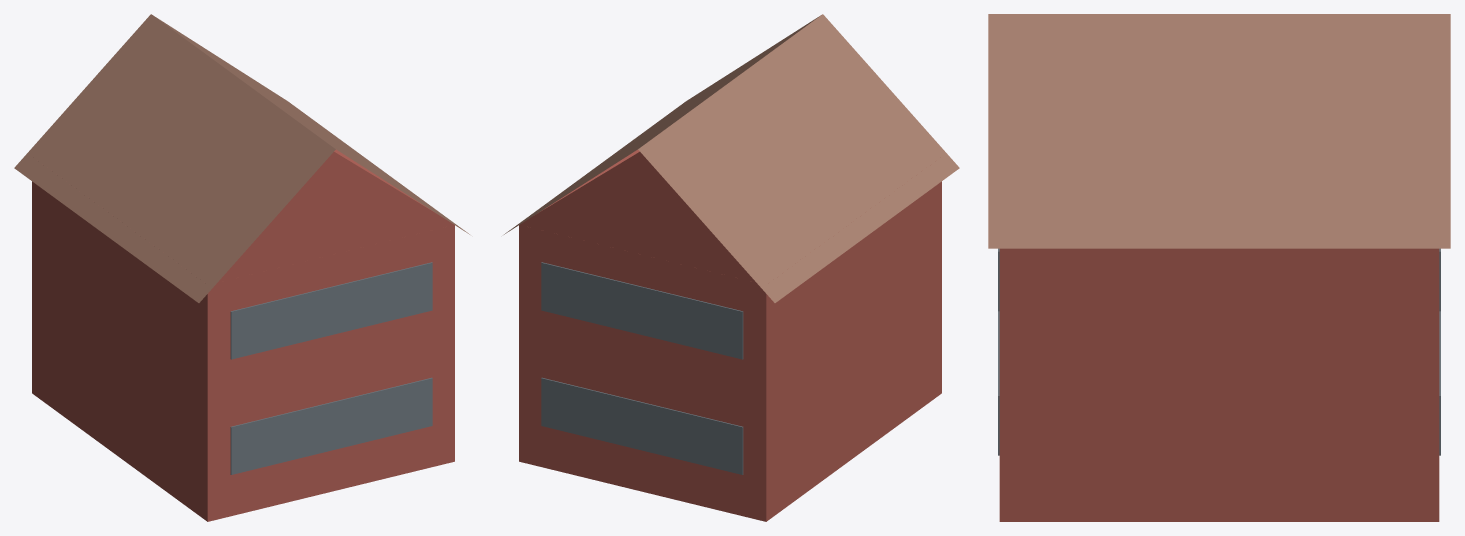
File: cove-house-red.coast-v2.lod2.glb
3 views of the same model, side by side, from view 1: azimuth 30°, elevation 25°; view 2: azimuth 150°, elevation 25°; view 3: azimuth 270°, elevation 25° (orthographic). The views are drawn at different scales.
Parts seen in each view (by area): view 1: cove-house-red; view 2: cove-house-red; view 3: cove-house-red.
Boxes of the visible parts, box(x1,y1,x2,y2) form: cove-house-red: box(14, 14, 469, 521); cove-house-red: box(504, 14, 959, 521); cove-house-red: box(988, 14, 1450, 521).
Bounding box in the file's own units: 7.2 × 8.69 × 8.42.
